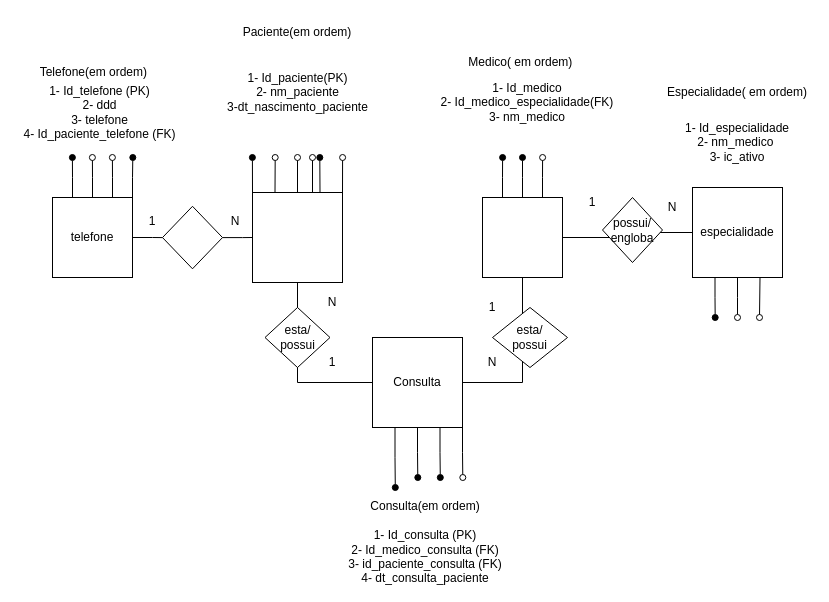
Some shapes in this 829 by 602 pixel diagram are drawn without their labels. Here are the shapes that lost their labels. From the top down, the centre of each, then its label:
At point 192,237: "pertente/ possui".
At point 297,237: "paciente".
At point 522,237: "Medico".
